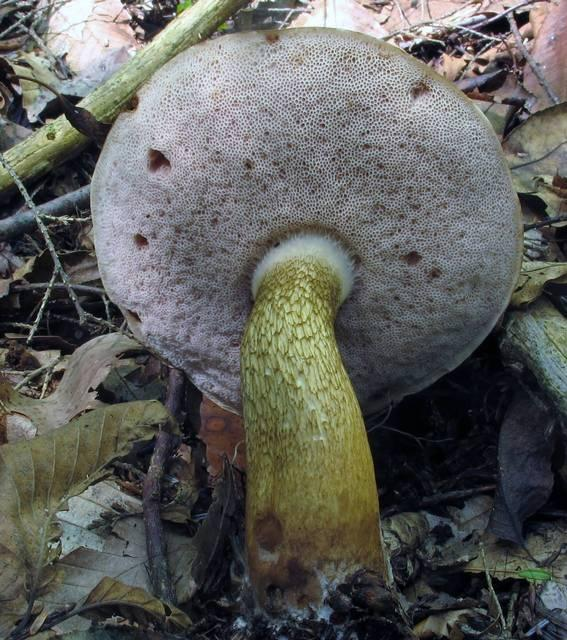Non-edible Mushroom: (87, 24, 524, 621)
